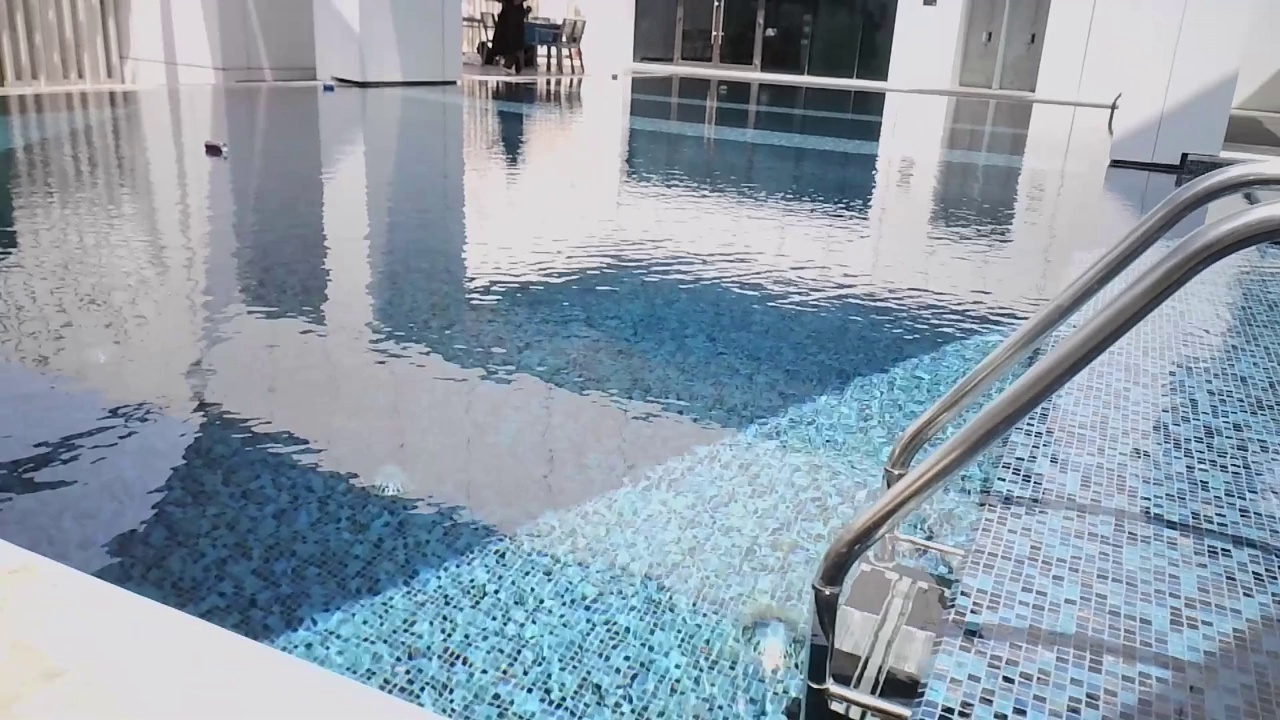debris: (198, 136, 230, 158), (321, 79, 334, 93), (606, 71, 622, 81), (716, 83, 729, 94)
